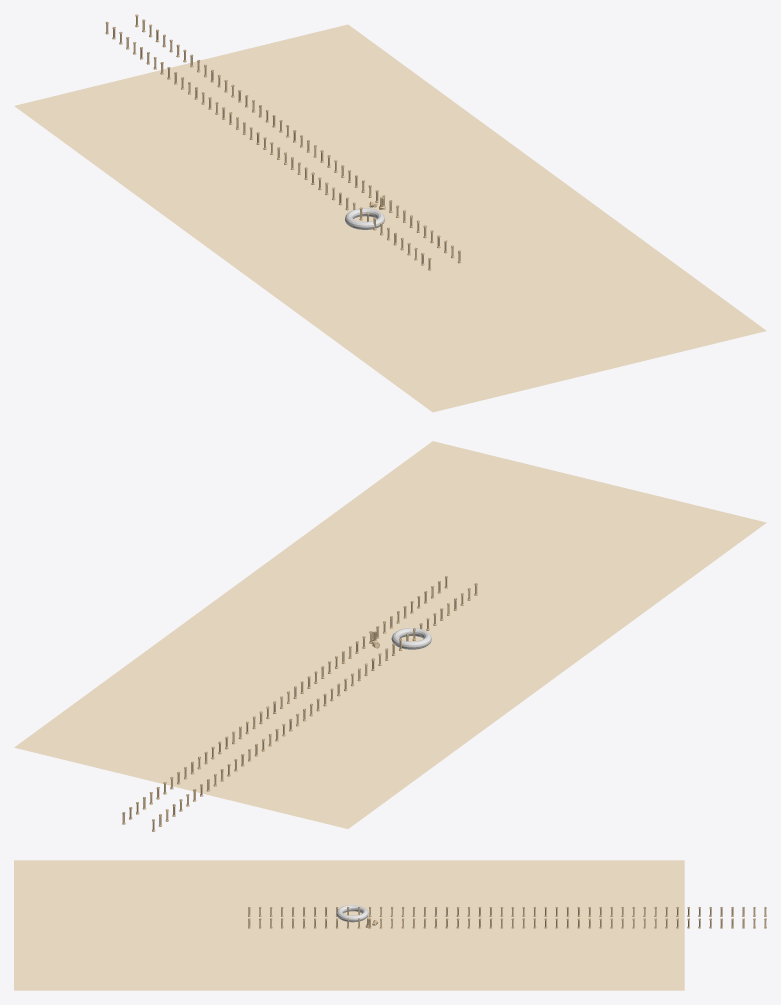
3 views of the same model, one above another, from view 1: azimuth 30°, elevation 25°; view 2: azimuth 150°, elevation 25°; view 3: azimuth 270°, elevation 25° (orthographic). The views are drawn at different scales.
Parts seen in each view (by area): view 1: 平面, 円柱中; view 2: 平面, 円柱中; view 3: 平面, 円柱中, トーラス.
Part boxes in pixels (box(x1,y1,x2,y2)): 平面: box(14, 24, 766, 412); 円柱中: box(105, 14, 460, 270); 平面: box(14, 441, 766, 828); 円柱中: box(122, 576, 477, 831); 平面: box(14, 860, 684, 990); 円柱中: box(248, 906, 766, 928); トーラス: box(336, 905, 368, 922).
Size of the model in its own units: 155 by 5.35 by 377.
